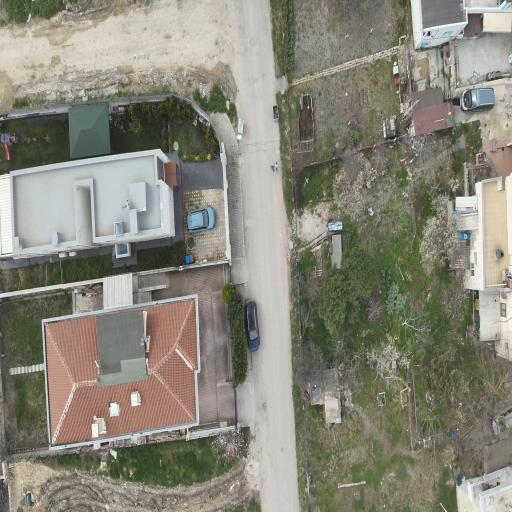car: (460, 88, 494, 111), (245, 301, 259, 351), (187, 207, 215, 232), (486, 71, 510, 81)
person: (271, 165, 275, 172), (276, 163, 278, 169)
